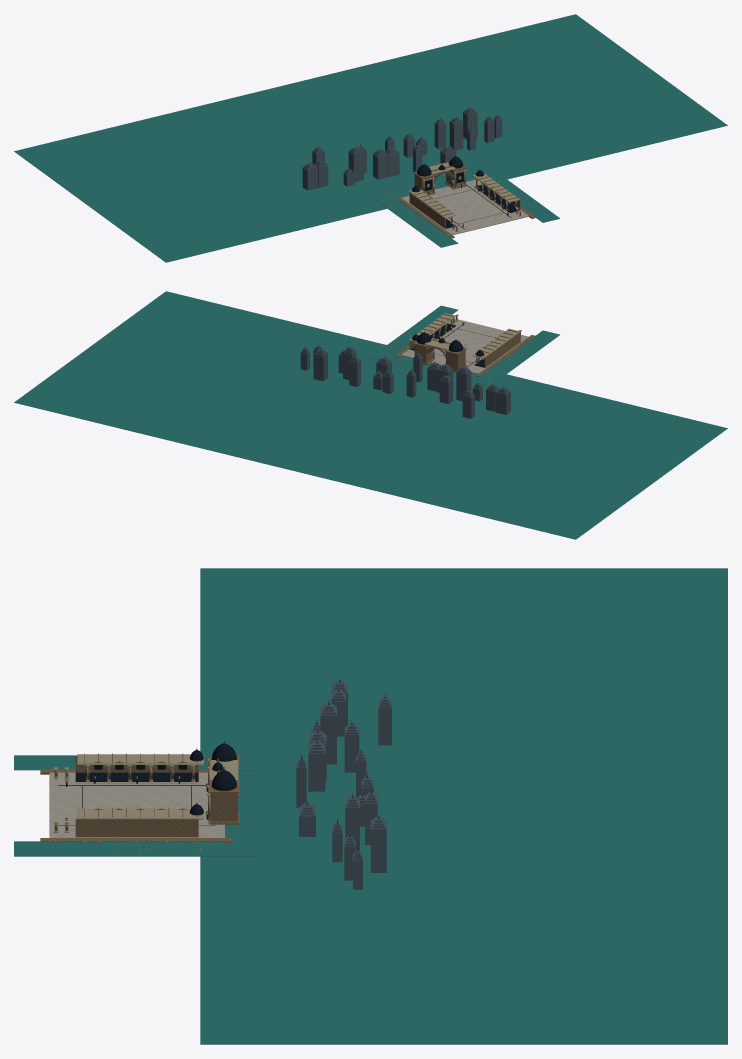
The model's file is lanka_courtyard.glb.
The picture shows the model from 3 angles, top to bottom: view 1: azimuth 30°, elevation 25°; view 2: azimuth 150°, elevation 25°; view 3: azimuth 270°, elevation 25°; orthographic projection. The views are drawn at different scales.
Parts seen in each view (by area): view 1: WATER_Coastal_water, SKYLINE_Distant_indigo_silhouettes, COL_BEVEL_Pale_limestone, COL_BEVEL_Warm_carved_sandstone, FLOOR_BEVEL_Courtyard_stone_3, FLOOR_BEVEL_Courtyard_stone_1, FLOOR_BEVEL_Courtyard_stone_2, FLOOR_BEVEL_Courtyard_stone_0, COL_Warm_carved_sandstone, COL_Indigo_glazed_stone; view 2: WATER_Coastal_water, SKYLINE_Distant_indigo_silhouettes, COL_BEVEL_Warm_carved_sandstone, COL_BEVEL_Pale_limestone, FLOOR_BEVEL_Courtyard_stone_0, FLOOR_BEVEL_Courtyard_stone_1, FLOOR_BEVEL_Courtyard_stone_3, FLOOR_BEVEL_Courtyard_stone_2, COL_Warm_carved_sandstone; view 3: WATER_Coastal_water, SKYLINE_Distant_indigo_silhouettes, COL_BEVEL_Warm_carved_sandstone, COL_BEVEL_Pale_limestone, FLOOR_BEVEL_Courtyard_stone_1, FLOOR_BEVEL_Courtyard_stone_0, FLOOR_BEVEL_Courtyard_stone_3, FLOOR_BEVEL_Courtyard_stone_2, COL_Warm_carved_sandstone, COL_Indigo_glazed_stone, COL_BEVEL_Indigo_glazed_stone.
Boxes of the visible parts, left/top/right/bottom form: WATER_Coastal_water: left=14, top=14, right=727, bottom=262; SKYLINE_Distant_indigo_silhouettes: left=302, top=106, right=502, bottom=190; COL_BEVEL_Pale_limestone: left=408, top=162, right=521, bottom=232; COL_BEVEL_Warm_carved_sandstone: left=409, top=165, right=520, bottom=228; FLOOR_BEVEL_Courtyard_stone_3: left=403, top=179, right=528, bottom=233; FLOOR_BEVEL_Courtyard_stone_1: left=408, top=180, right=524, bottom=233; FLOOR_BEVEL_Courtyard_stone_2: left=406, top=181, right=522, bottom=232; FLOOR_BEVEL_Courtyard_stone_0: left=402, top=180, right=526, bottom=234; COL_Warm_carved_sandstone: left=395, top=166, right=535, bottom=238; COL_Indigo_glazed_stone: left=412, top=156, right=508, bottom=227; WATER_Coastal_water: left=14, top=291, right=727, bottom=539; SKYLINE_Distant_indigo_silhouettes: left=300, top=344, right=510, bottom=418; COL_BEVEL_Warm_carved_sandstone: left=409, top=331, right=520, bottom=372; COL_BEVEL_Pale_limestone: left=408, top=313, right=521, bottom=365; FLOOR_BEVEL_Courtyard_stone_0: left=405, top=318, right=528, bottom=373; FLOOR_BEVEL_Courtyard_stone_1: left=406, top=319, right=526, bottom=370; FLOOR_BEVEL_Courtyard_stone_3: left=402, top=321, right=525, bottom=372; FLOOR_BEVEL_Courtyard_stone_2: left=403, top=320, right=524, bottom=371; COL_Warm_carved_sandstone: left=395, top=316, right=534, bottom=376; WATER_Coastal_water: left=14, top=568, right=727, bottom=1044; SKYLINE_Distant_indigo_silhouettes: left=296, top=677, right=391, bottom=889; COL_BEVEL_Warm_carved_sandstone: left=75, top=754, right=239, bottom=837; COL_BEVEL_Pale_limestone: left=54, top=754, right=238, bottom=832; FLOOR_BEVEL_Courtyard_stone_1: left=49, top=772, right=224, bottom=837; FLOOR_BEVEL_Courtyard_stone_0: left=49, top=772, right=224, bottom=837; FLOOR_BEVEL_Courtyard_stone_3: left=49, top=772, right=224, bottom=837; FLOOR_BEVEL_Courtyard_stone_2: left=49, top=772, right=224, bottom=837; COL_Warm_carved_sandstone: left=40, top=759, right=233, bottom=841; COL_Indigo_glazed_stone: left=66, top=743, right=236, bottom=819; COL_BEVEL_Indigo_glazed_stone: left=75, top=772, right=198, bottom=781.
Size of the model in its own units: 320 by 19.82 by 203.
Materials: 16 (4 with a texture image).
